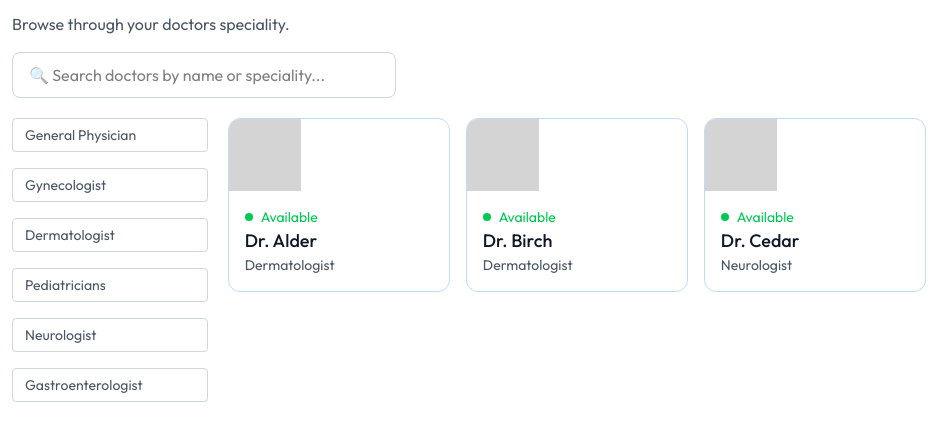
it: Doctors › narrows the list as a name is typed
Type "birch" into the field with placeholder "🔍 Search doctors by name or speciality...".
click(204, 75); type("birch")  # box [12,52,396,98]
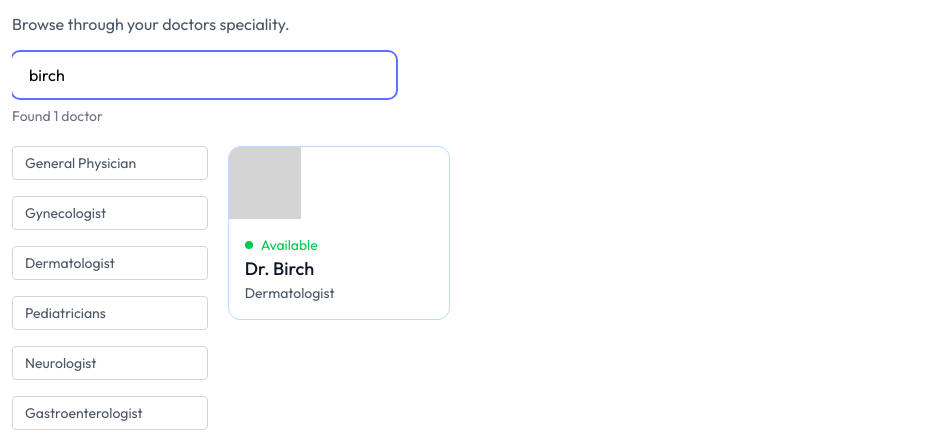
expect the text "Dr. Birch" is shown: met, box [245,257,314,280]
expect the text "Dr. Alder" is gone: met
